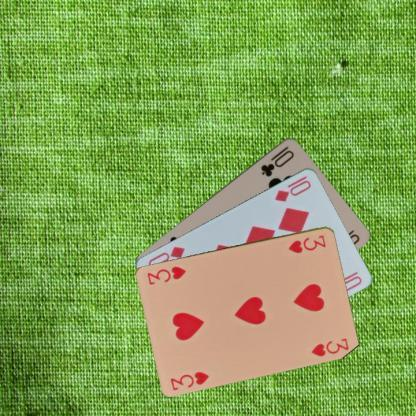10c: (258, 143, 296, 178)
10d: (272, 173, 313, 203)
3h: (168, 368, 210, 392), (286, 232, 328, 254)
